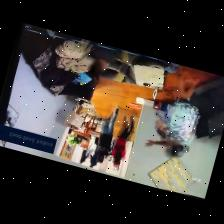person: (156, 65, 198, 157), (98, 106, 119, 162), (113, 114, 135, 165), (90, 146, 98, 167), (80, 147, 89, 163)
